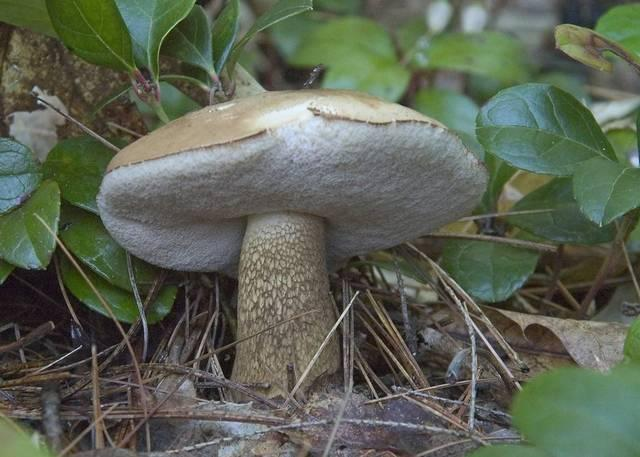Non-edible Mushroom: (94, 86, 490, 404)
